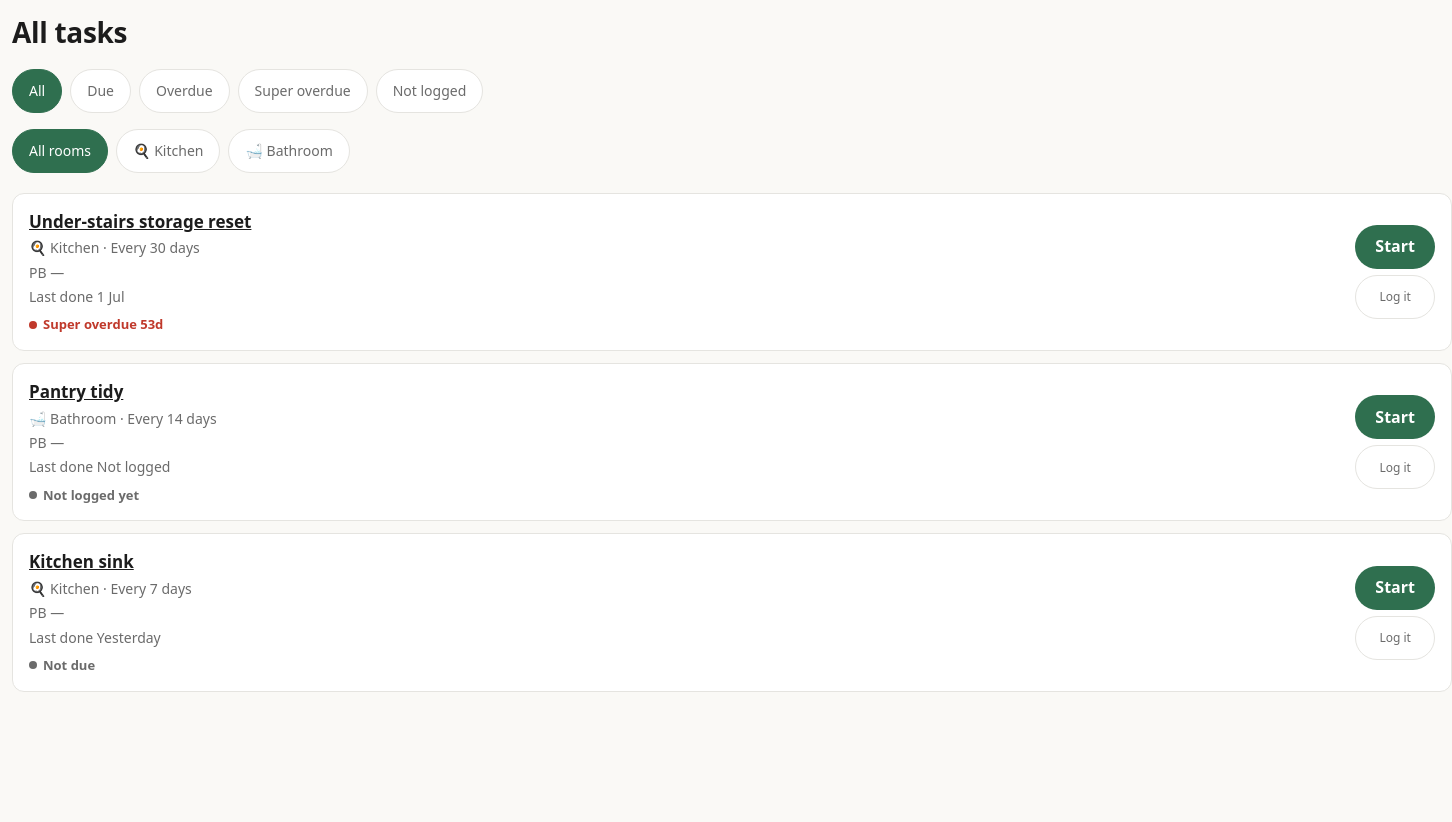
Scenario: Tasks page › filters to only super-overdue tasks
Expected: the link "Under-stairs storage reset" is shown, [29, 210, 251, 233]
Click the button "Super overdue": (303, 91) [238, 69, 368, 113]
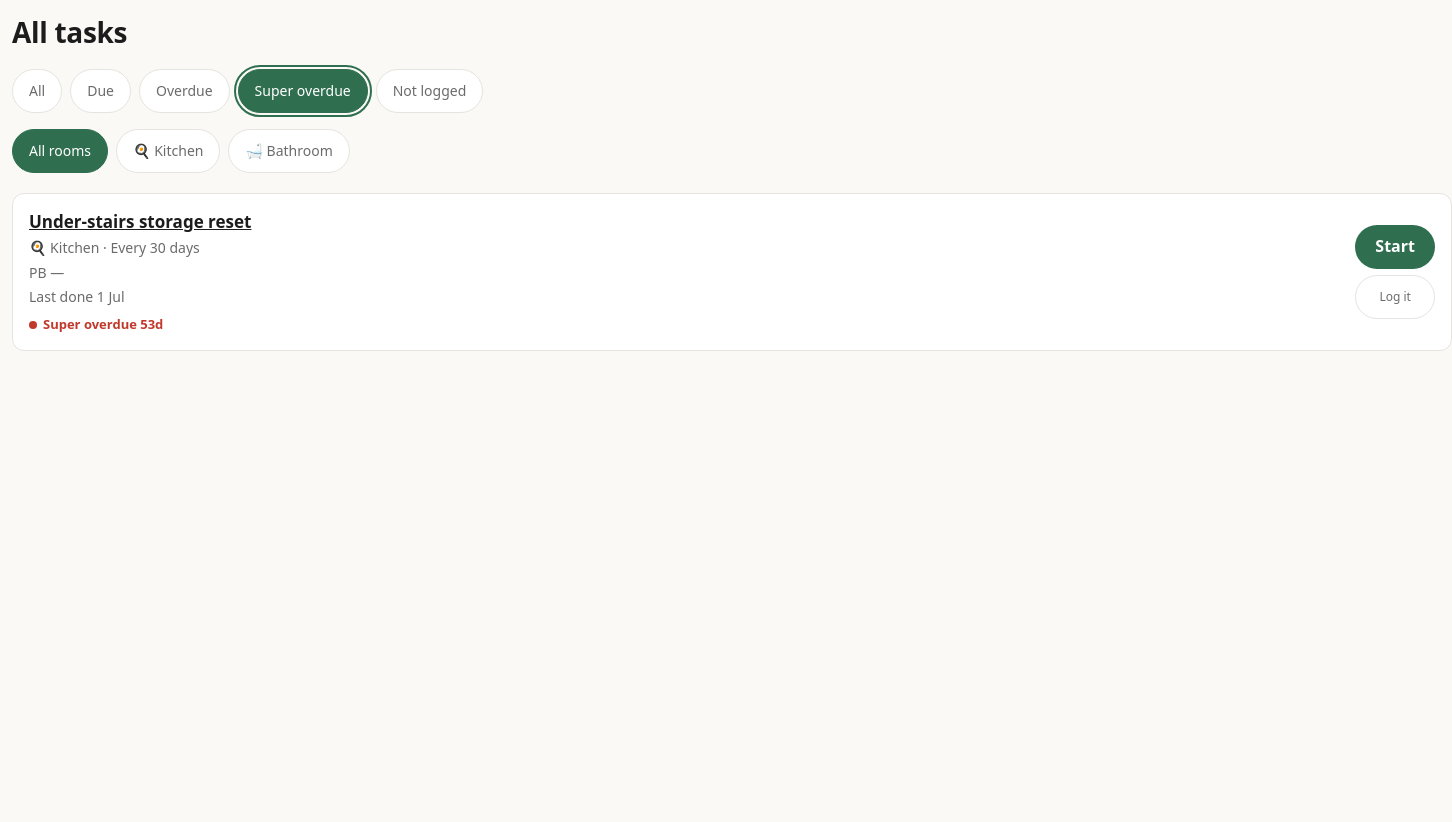
Expected: the link "Under-stairs storage reset" is shown, [29, 210, 251, 233]
Result: the link "Pantry tidy" is gone
Result: the link "Kitchen sink" is gone
